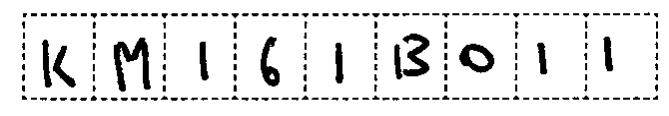0: (456, 36, 503, 82)
1: (182, 36, 223, 86), (320, 36, 357, 88), (526, 36, 560, 81), (592, 32, 626, 77)
6: (248, 33, 287, 90)
A: (32, 33, 80, 95)
B: (387, 30, 435, 83)
M: (105, 34, 156, 94)
